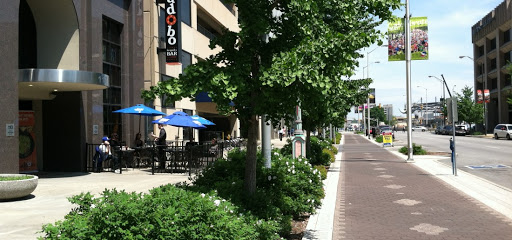tree: (231, 33, 265, 200)
